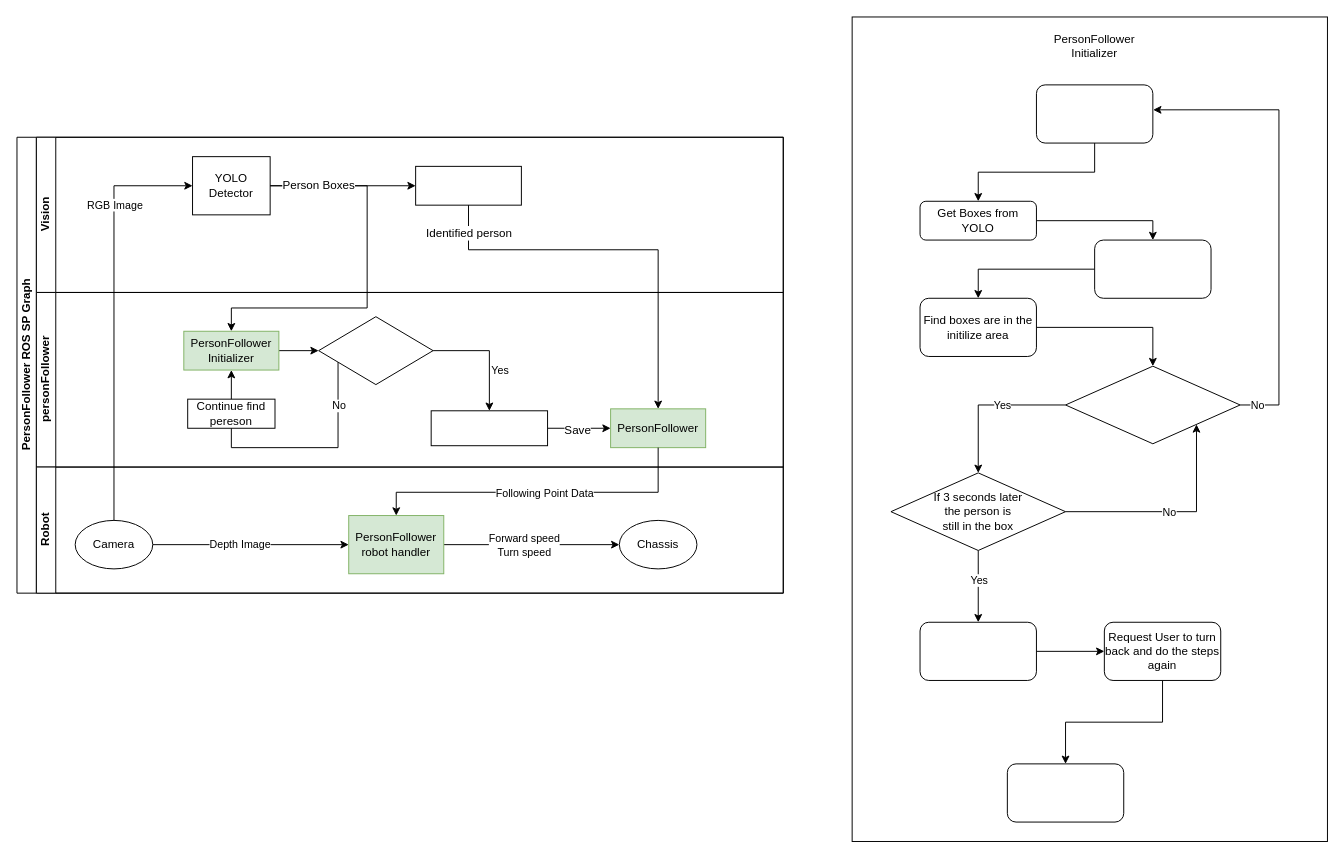
Some shapes in this 1344 by 858 pixel diagram are drawn without their labels. Here are the shapes that lost their labels. From the top down, the centre of each, then its label:
At (1094,113): "Request user to stand in front of the robot".
At (468,185): "Person Re-identification".
At (1152,268): "Filter boxes which are persons".
At (375,350): "If initialized".
At (1152,404): "Is there only 1 person in the box".
At (489,428): "Calculate person descriptor".
At (977,650): "Record the descriptor".
At (1065,792): "Send the two front and back descriptor to main program".
